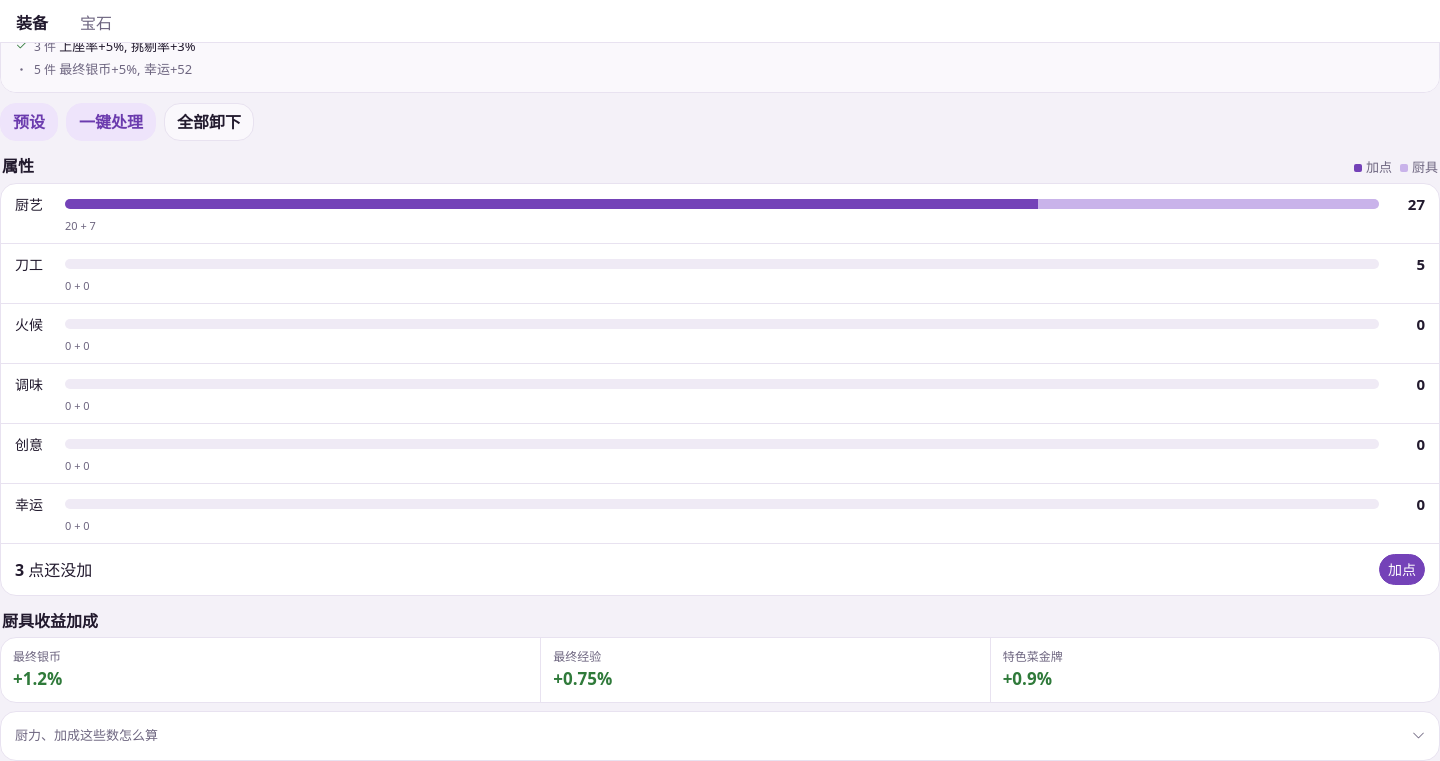
Scenario: EquipView › 加点面板一项一行写明是哪一项；写出加完以后的合计（含厨具）（问题记录：不知道加的哪三个；界面改版 P7）
The width and height of the screenshot is (1440, 761).
(page scrolled)
Click the button with test id "open-points": (1402,570) [1379,554,1425,585]
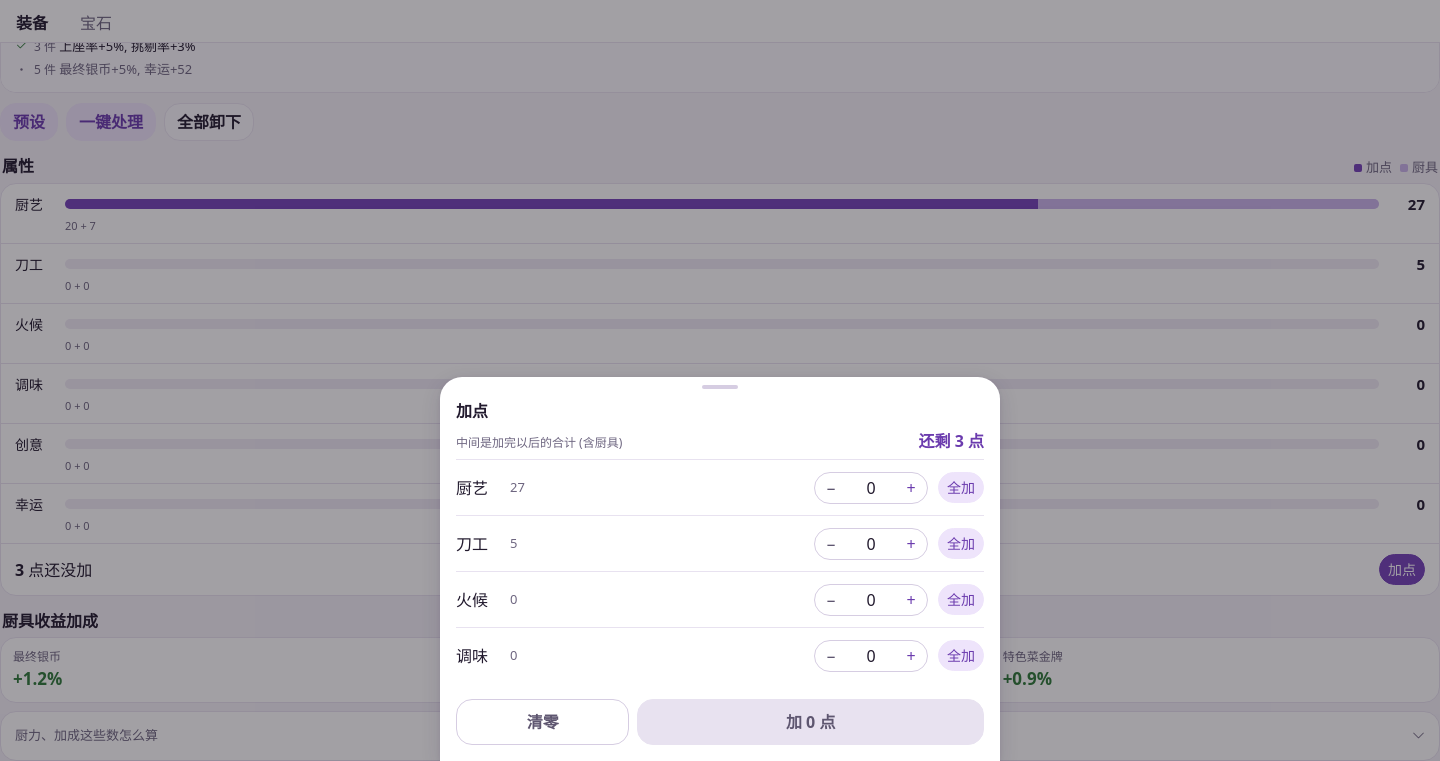
Check: the elements with test id "label-" read "厨艺", "刀工", "火候", "调味", in this order, box [456,476,488,498]; [456,532,488,554]; [456,588,488,610]; [456,644,488,666]
Check: the number field with test id "add-cook" holds "0"
Replace the text in the number field with test id "add-cook" with "2": (871,488) [847,472,895,502]
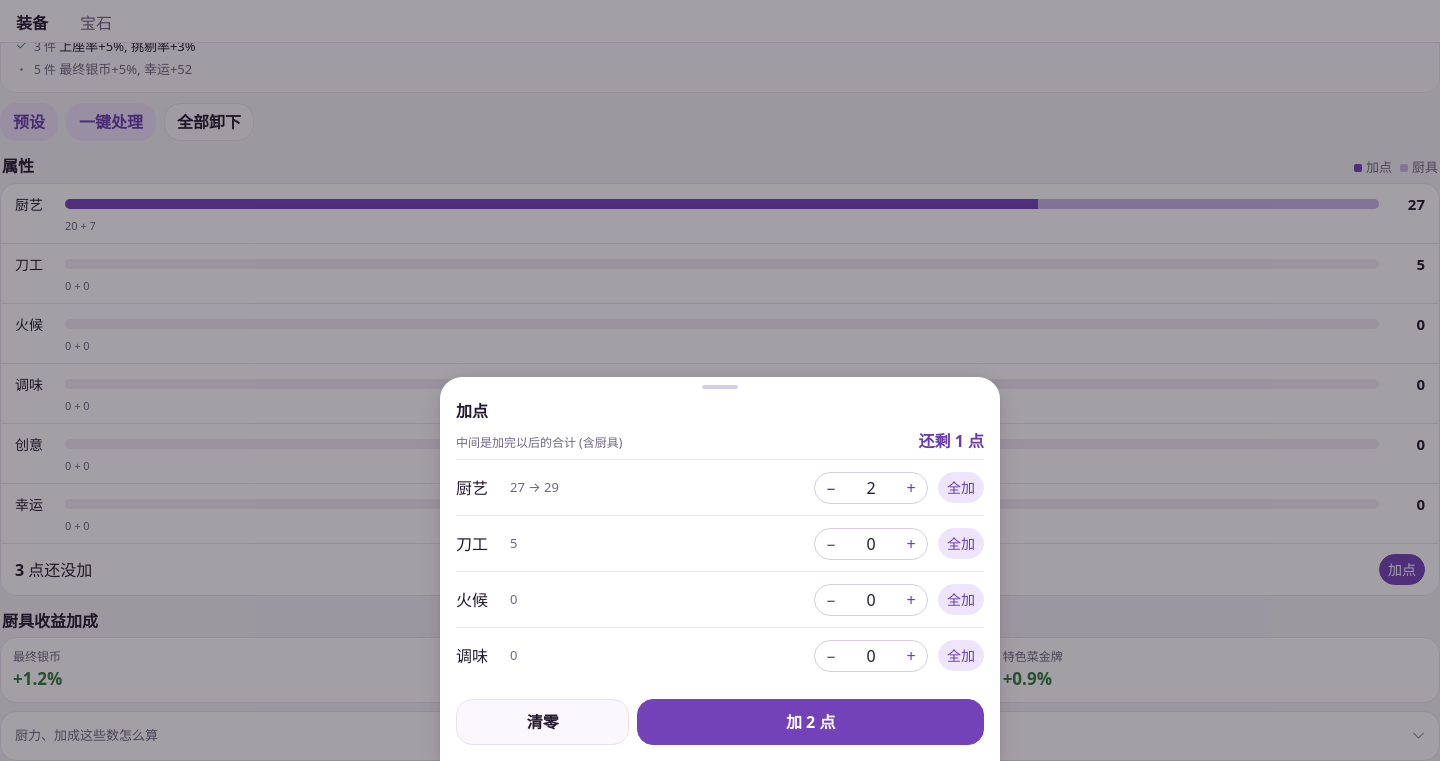
Check: the text with test id "preview-cutting" reads "5", box [510,534,517,552]
Check: the text with test id "preview-cook" reads "27 → 29", box [510,478,559,496]
Replace the text in the number field with test id "add-season" with "1": (871,656) [847,640,895,670]
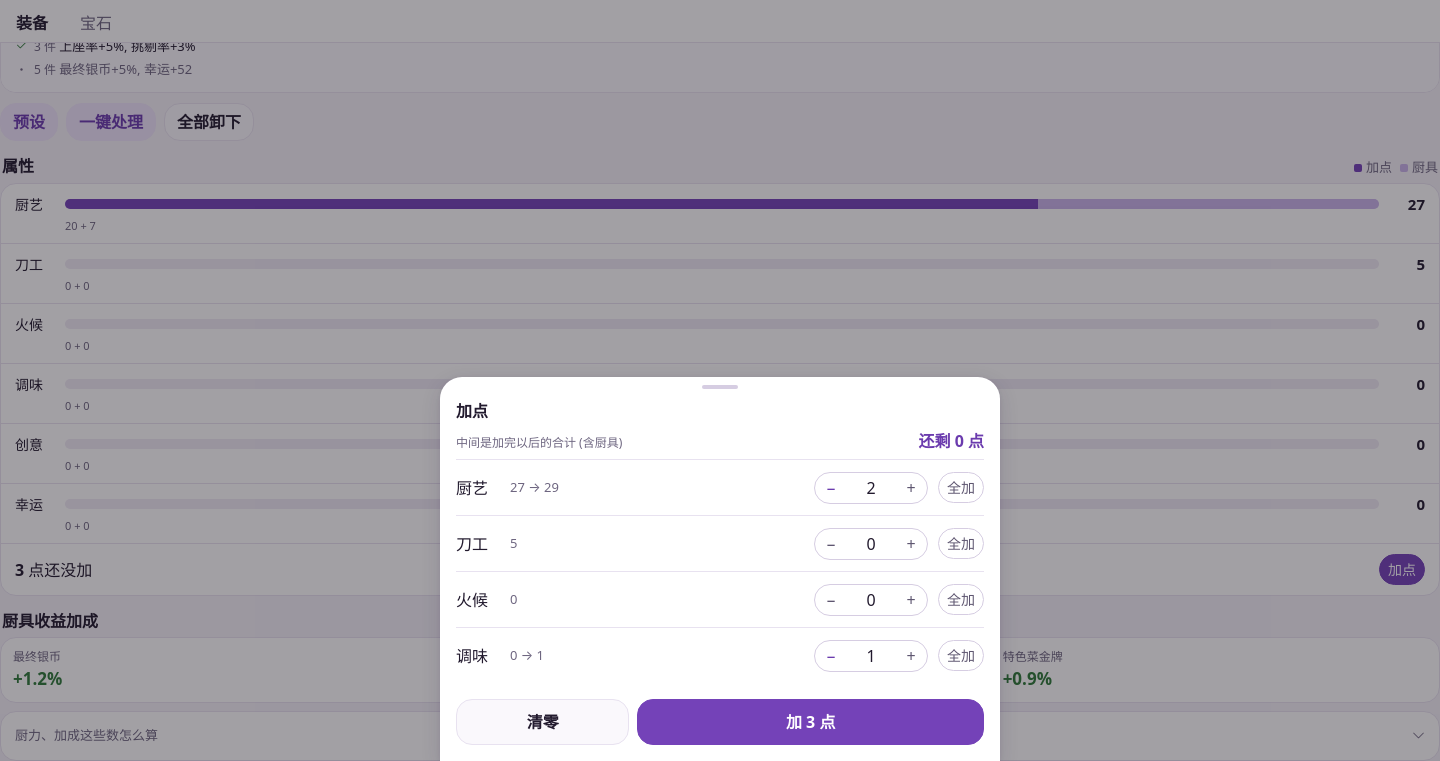
Check: the text with test id "preview-season" reads "0 → 1", box [510,646,544,664]
Check: the text with test id "attr-left" reads "还剩 0 点", box [918,430,984,452]
